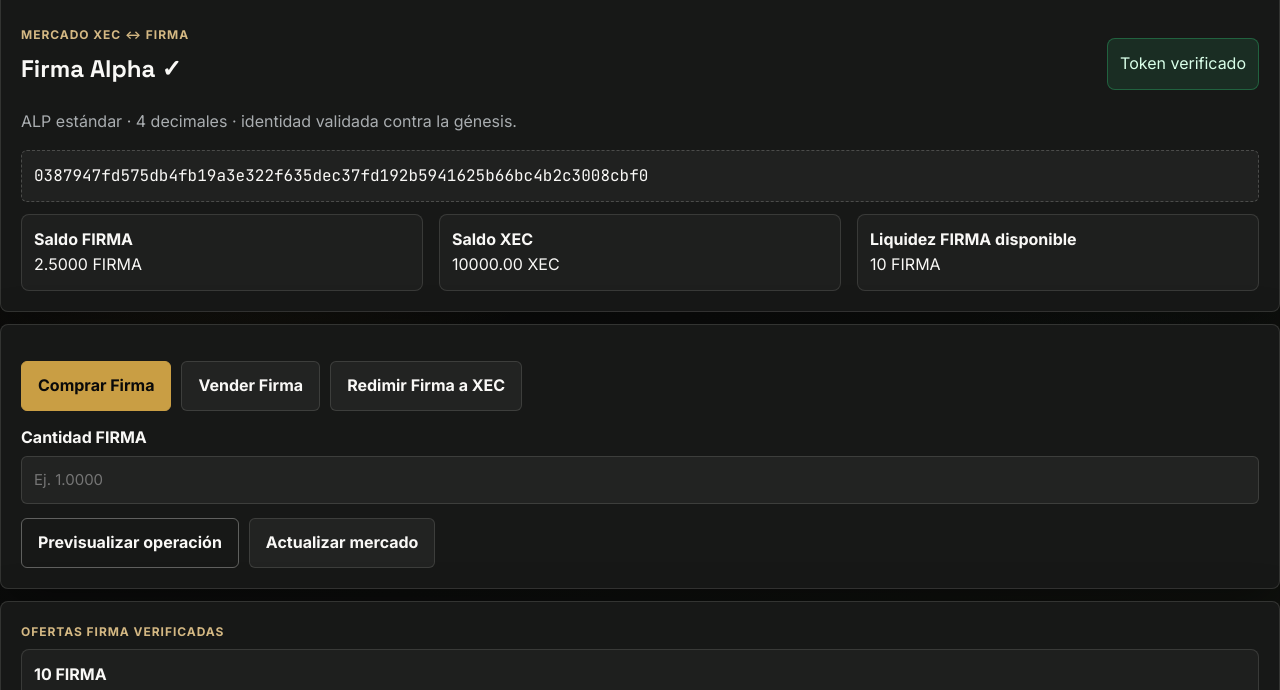
Test: FirmaAlphaMarket preview boundary › executes only after the explicit local-signing confirmation
Expected: the button "Previsualizar operación" is enabled, [21,518,239,568]
Type "1" into the field labelled "Cantidad FIRMA" at (640, 480), box [21,456,1259,504]
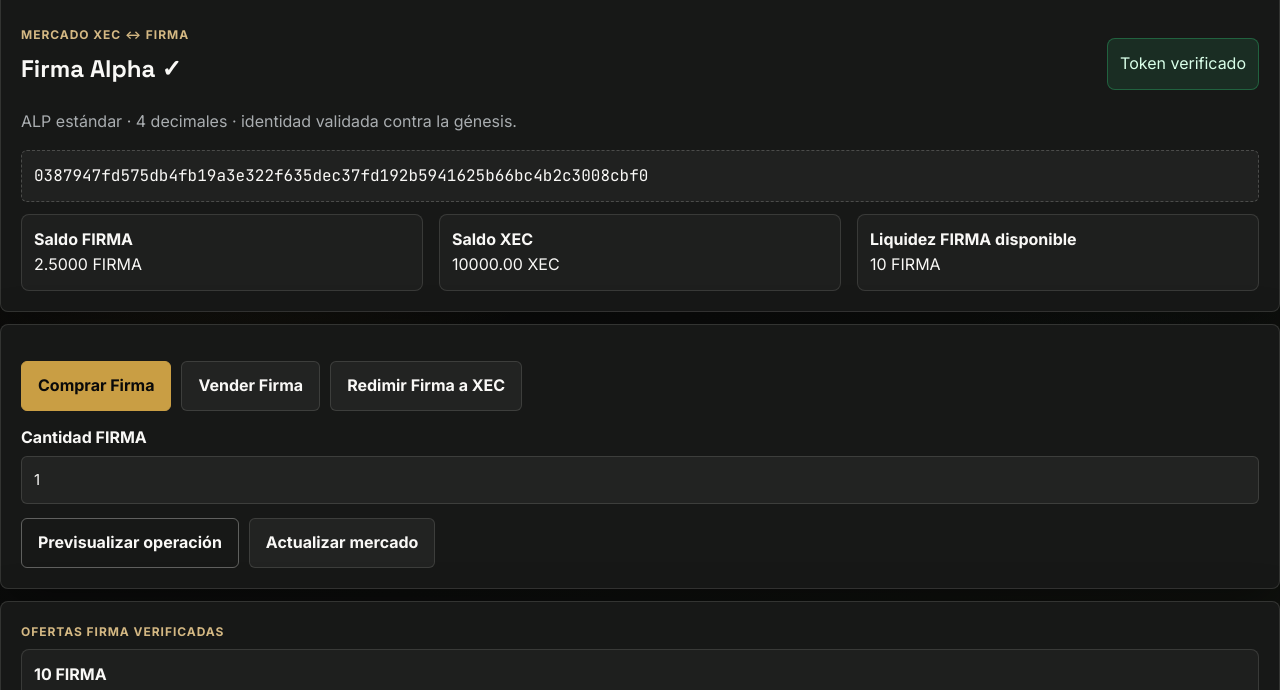
Click the button "Previsualizar operación" at (130, 543), box [21,518,239,568]
(page scrolled)
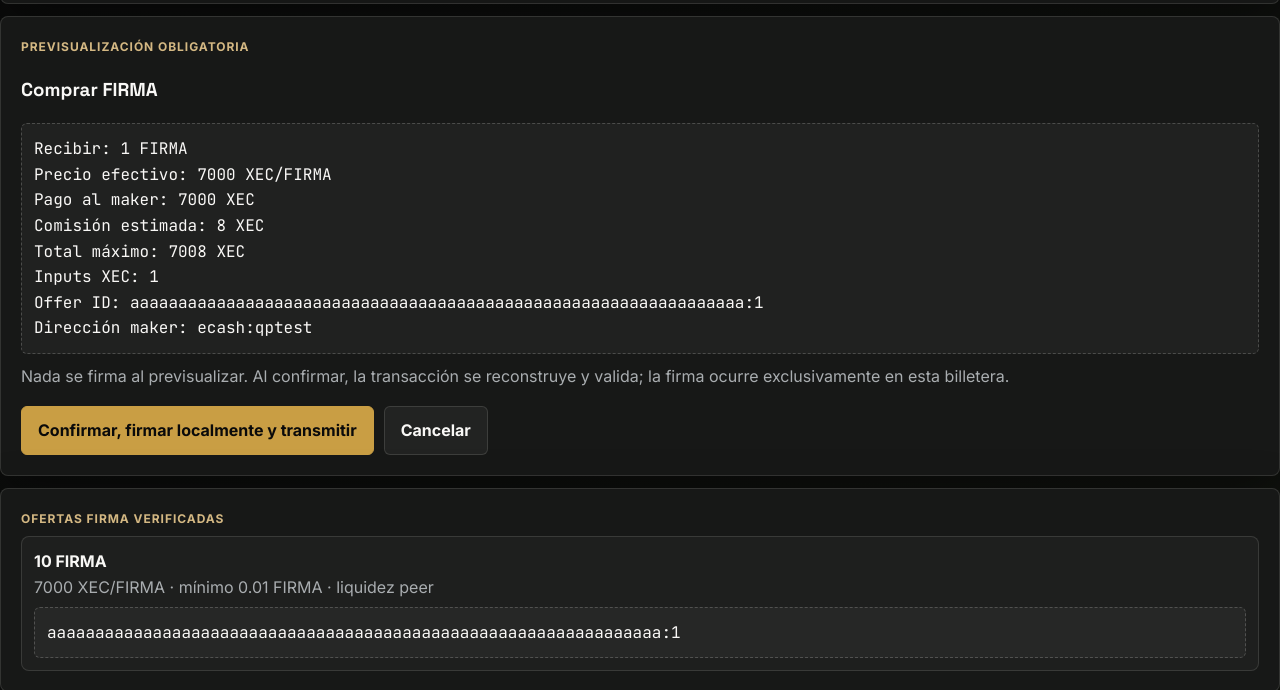
Click the button "Confirmar, firmar localmente y transmitir" at (197, 430), box [21,406,374,455]
(page scrolled)
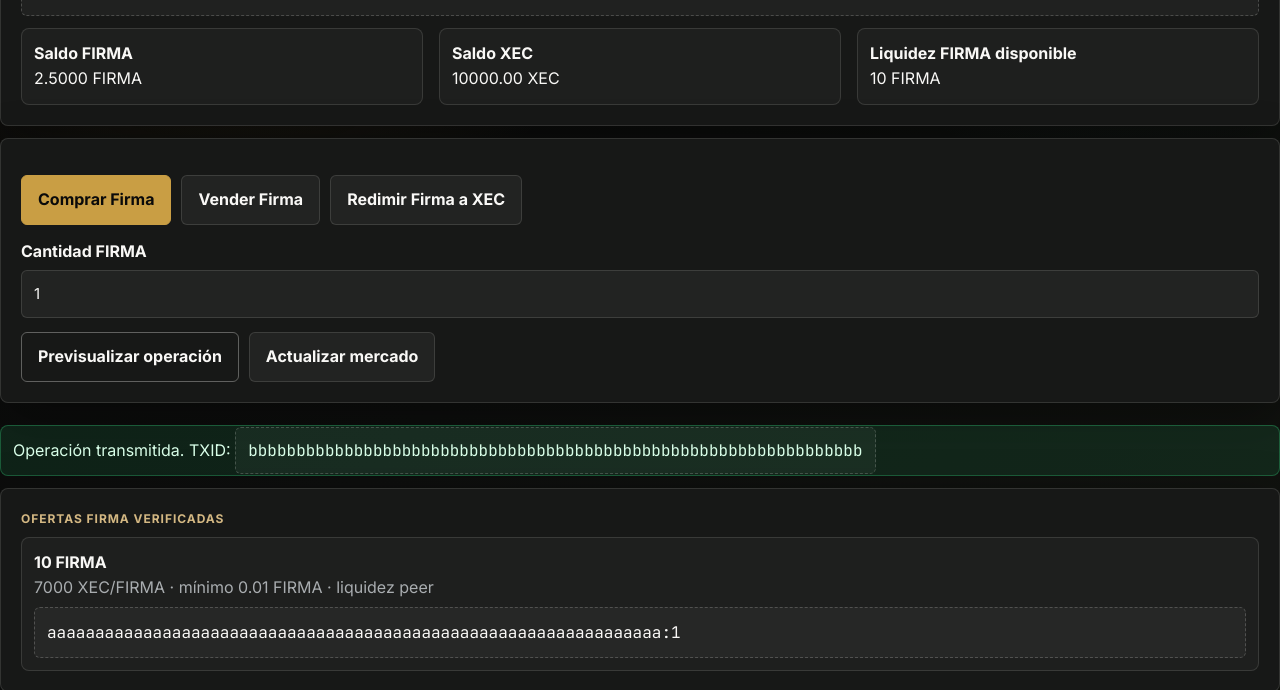
Expected: the text "Operación transmitida" is shown, [13,440,235,460]
